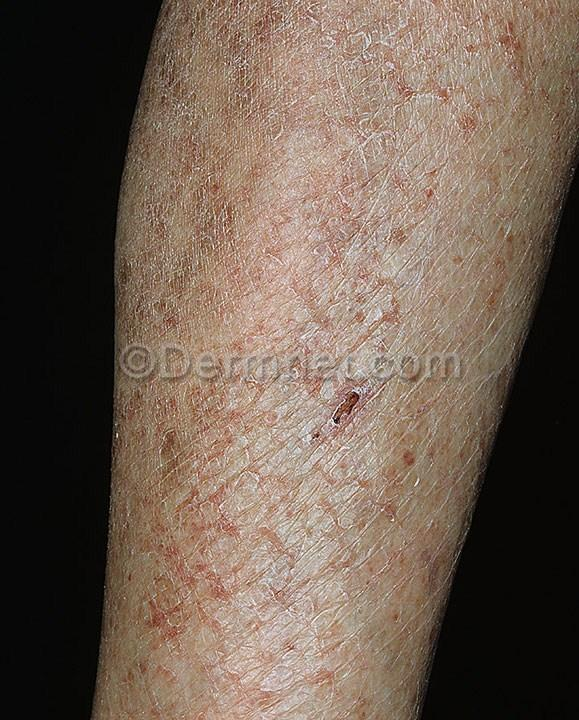Eczema: (130, 0, 523, 350), (116, 389, 435, 711)
